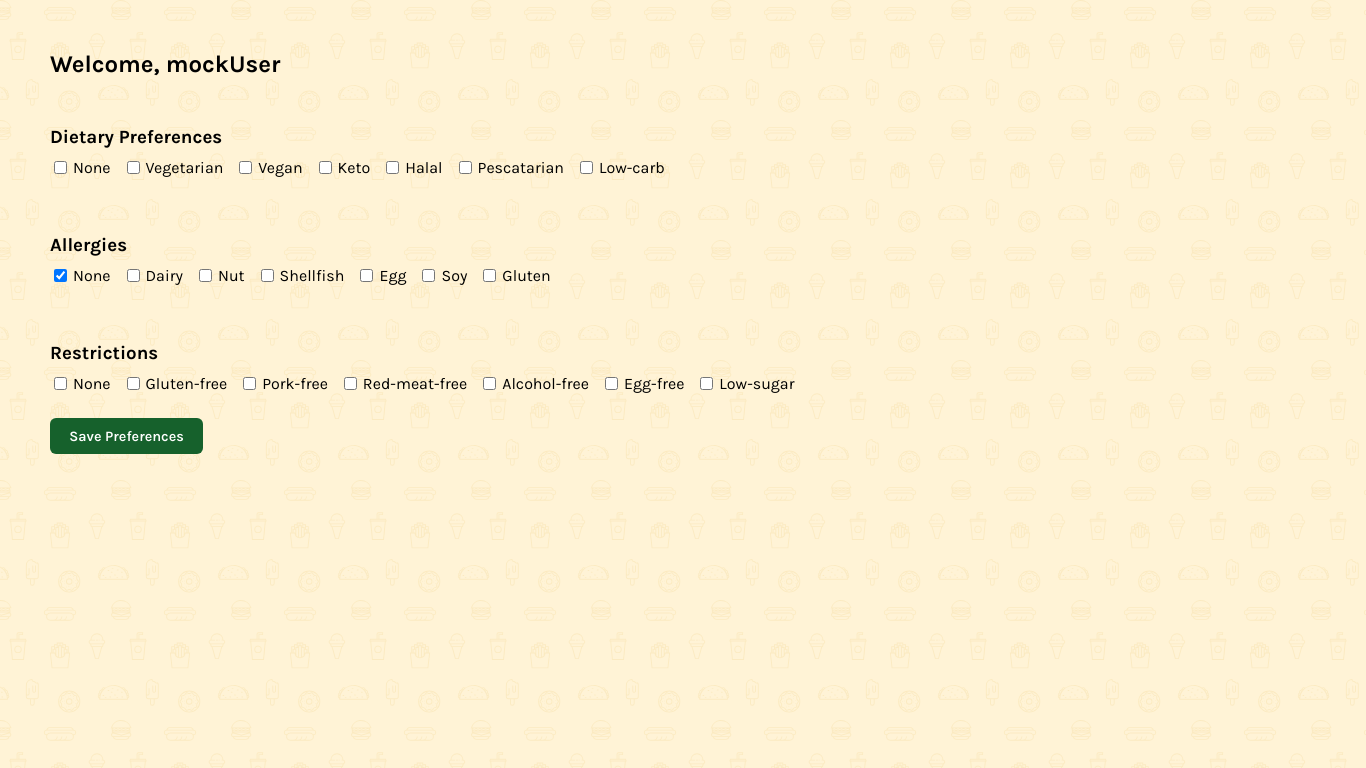
Test: MainPage › selecting an allergy option unchecks "None"
This screenshot has width=1366, height=768.
Check: the heading "Welcome, mockUser" is shown, box x1=50 y1=50 x2=280 y2=78
Check: the checkbox labelled "None" in the row of "Dairy" is checked, box x1=54 y1=269 x2=67 y2=282
Click the checkbox labelled "Dairy" at (133, 275), box x1=127 y1=269 x2=140 y2=282
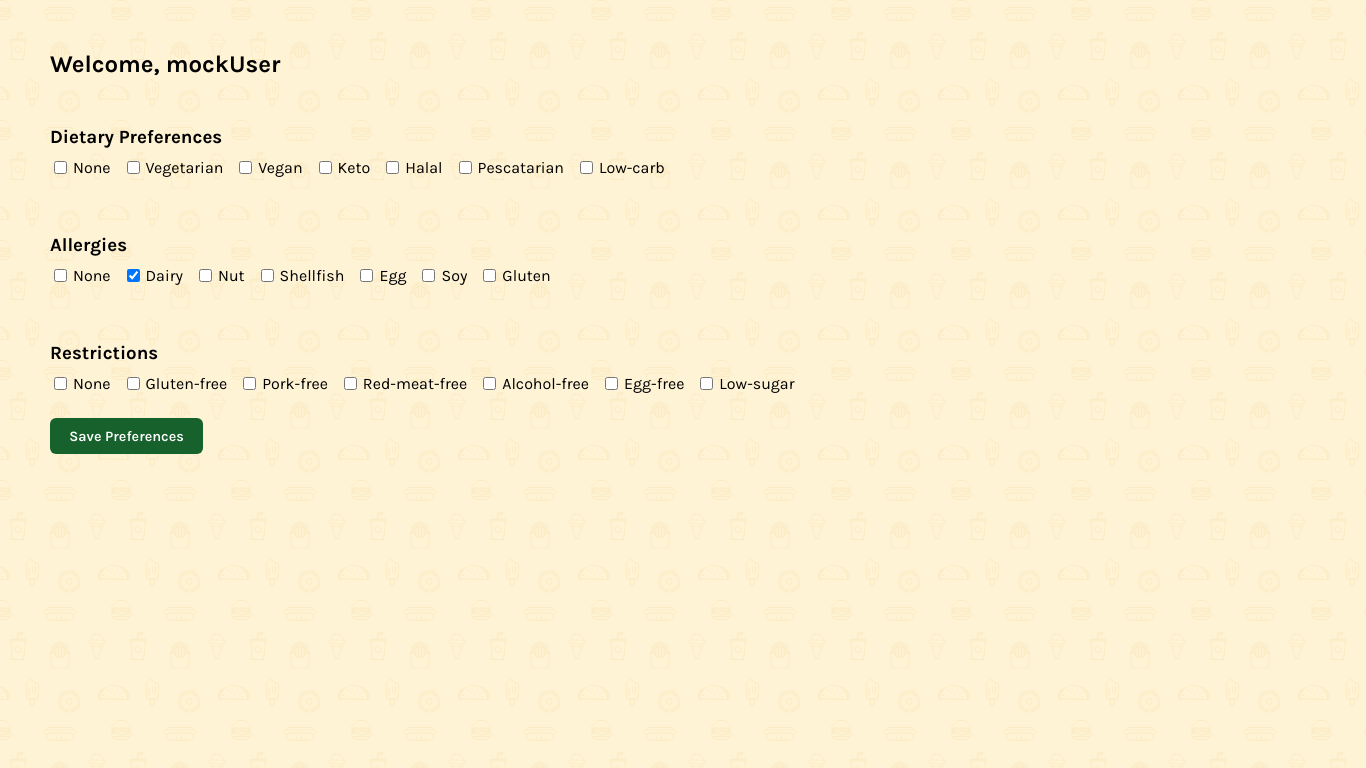
Check: the checkbox labelled "Dairy" is checked, box x1=127 y1=269 x2=140 y2=282
Check: the checkbox labelled "None" in the row of "Dairy" is not checked, box x1=54 y1=269 x2=67 y2=282
